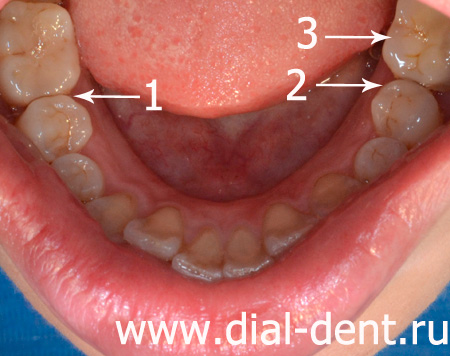LL1BC_healthy: (356, 137, 406, 178)
LL1M_healthy: (390, 4, 450, 77)
LL2BC_decay: (371, 80, 440, 142)
LLCI_healthy: (224, 229, 272, 275)
LLC_healthy: (312, 174, 359, 212)
LLLI_healthy: (267, 205, 314, 249)
LR1BC_healthy: (56, 153, 104, 199)
LR1M_healthy: (1, 4, 80, 97)
LR2BC_healthy: (23, 97, 90, 155)
LRCI_healthy: (180, 227, 223, 282)
LRC_healthy: (88, 190, 134, 239)
LRLI_healthy: (135, 206, 180, 264)
